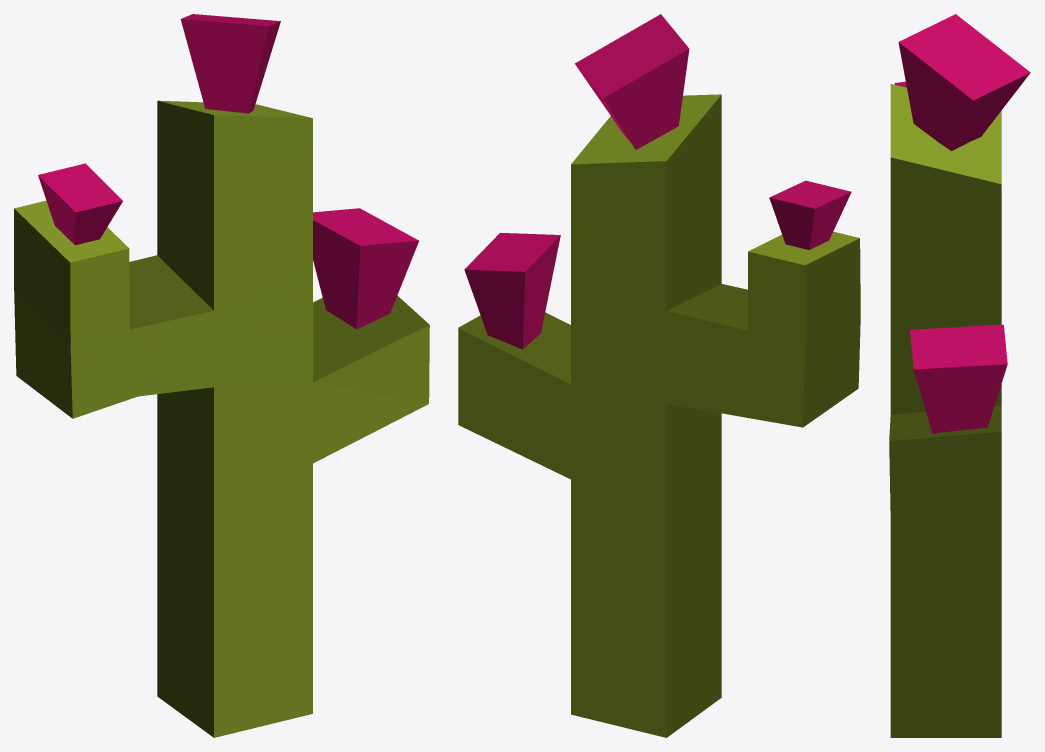
Rendered from cactus.FBX.
3 renders of one model, left to right at view 1: azimuth 30°, elevation 25°; view 2: azimuth 150°, elevation 25°; view 3: azimuth 270°, elevation 25°, orthographic. The views are drawn at different scales.
Visible parts, largest first — view 1: cactus; view 2: cactus; view 3: cactus.
Boxes of the visible parts, x1,y1,x2,y2 form: cactus: (14,14,429,737); cactus: (458,14,860,737); cactus: (889,14,1030,737).
Bounding box in the file's own units: 36.7 × 12.81 × 67.53.
